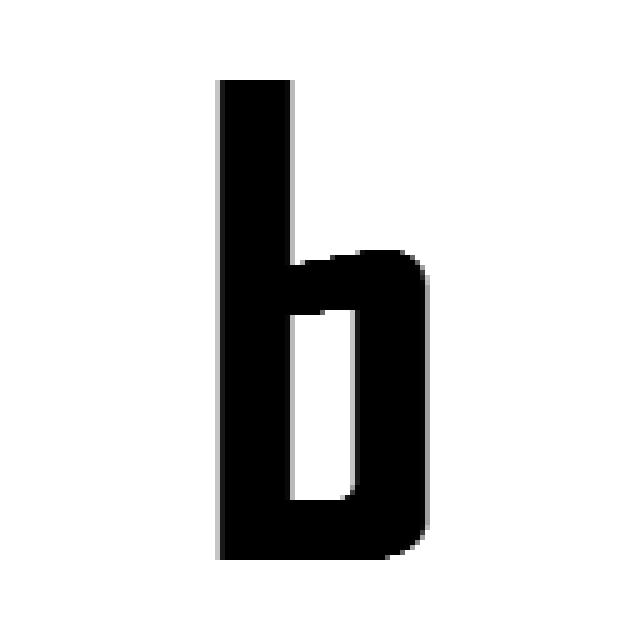B: (215, 80, 430, 560)
